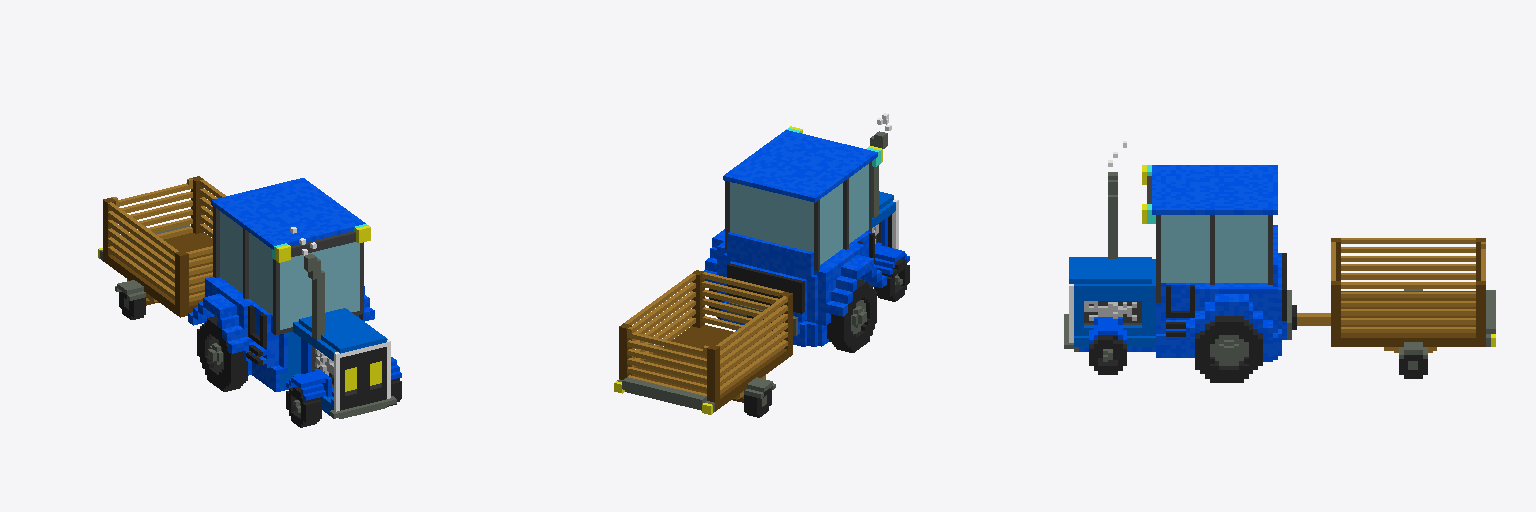
3 renders of one model, left to right at view 1: azimuth 30°, elevation 25°; view 2: azimuth 150°, elevation 25°; view 3: azimuth 270°, elevation 25°, orthographic.
Parts seen in each view (by area): view 1: object 1; view 2: object 1; view 3: object 1.
Part boxes in pixels (left/top/right/bottom): object 1: left=98, top=176, right=401, bottom=427; object 1: left=614, top=113, right=909, bottom=417; object 1: left=1064, top=141, right=1495, bottom=382.
Bounding box in the file's own units: 3.4 × 4.3 × 8.9.
1 materials, 1 textured.